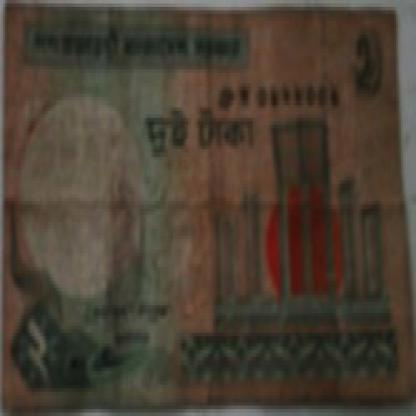two taka: (145, 107, 258, 163), (346, 17, 406, 114)
